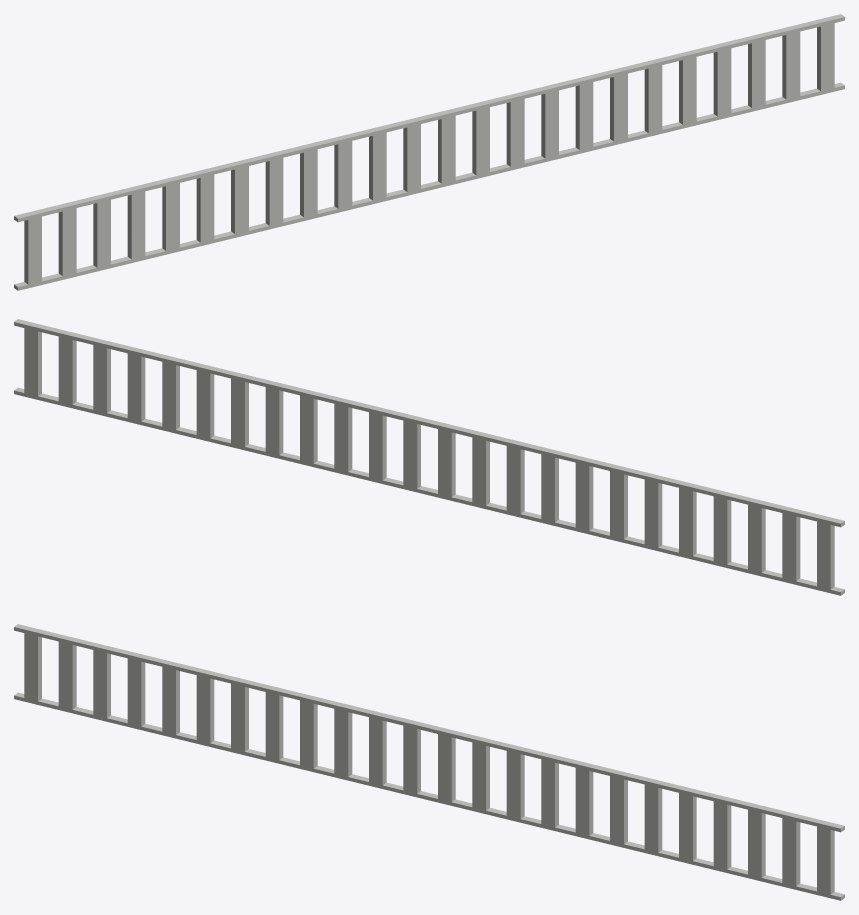
File: barrieres_V.dae
The picture shows the model from 3 angles, top to bottom: view 1: azimuth 30°, elevation 25°; view 2: azimuth 150°, elevation 25°; view 3: azimuth 330°, elevation 25°; orthographic projection.
Parts seen in each view (by area): view 1: grille_Cube; view 2: grille_Cube; view 3: grille_Cube.
Part boxes in pixels (x1=…): grille_Cube: x1=14, y1=14, x2=844, y2=290; grille_Cube: x1=14, y1=319, x2=844, y2=595; grille_Cube: x1=14, y1=624, x2=844, y2=900.
Bounding box in the file's own units: 24 × 0.2 × 2.
Materials: 1 (1 with a texture image).
